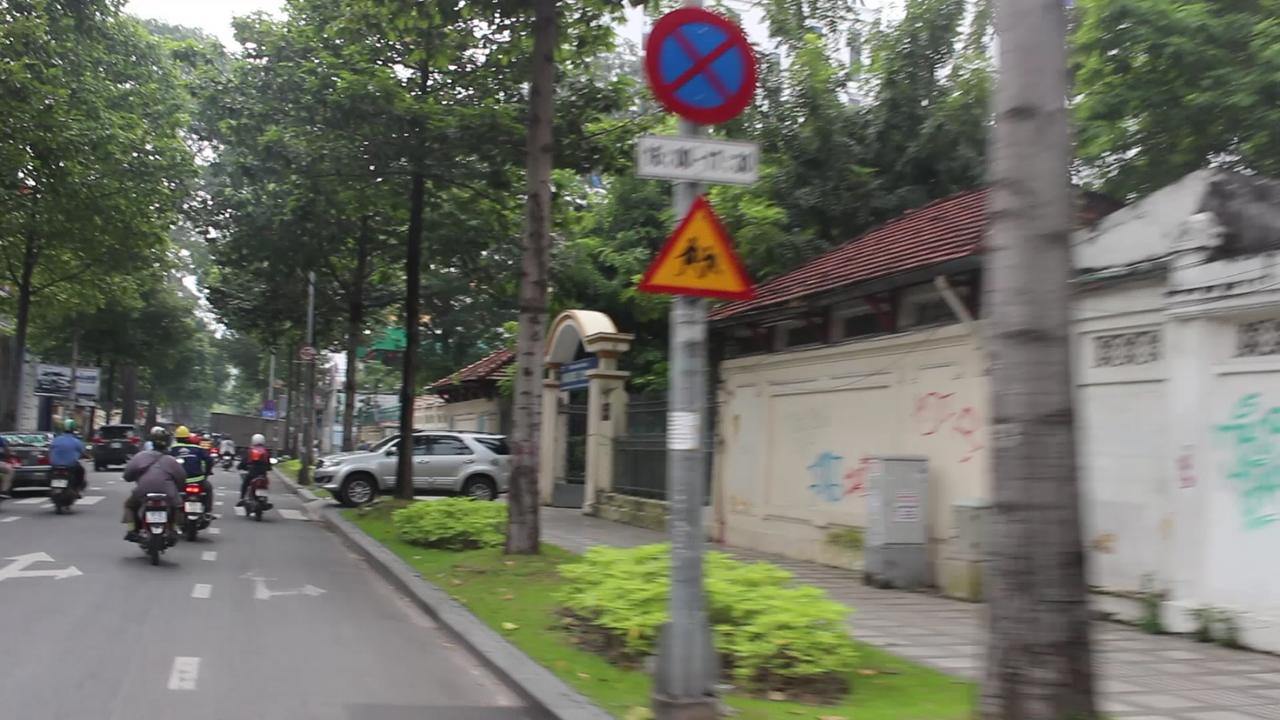P.103a: (646, 7, 753, 130)
R.301e: (632, 195, 758, 302)
